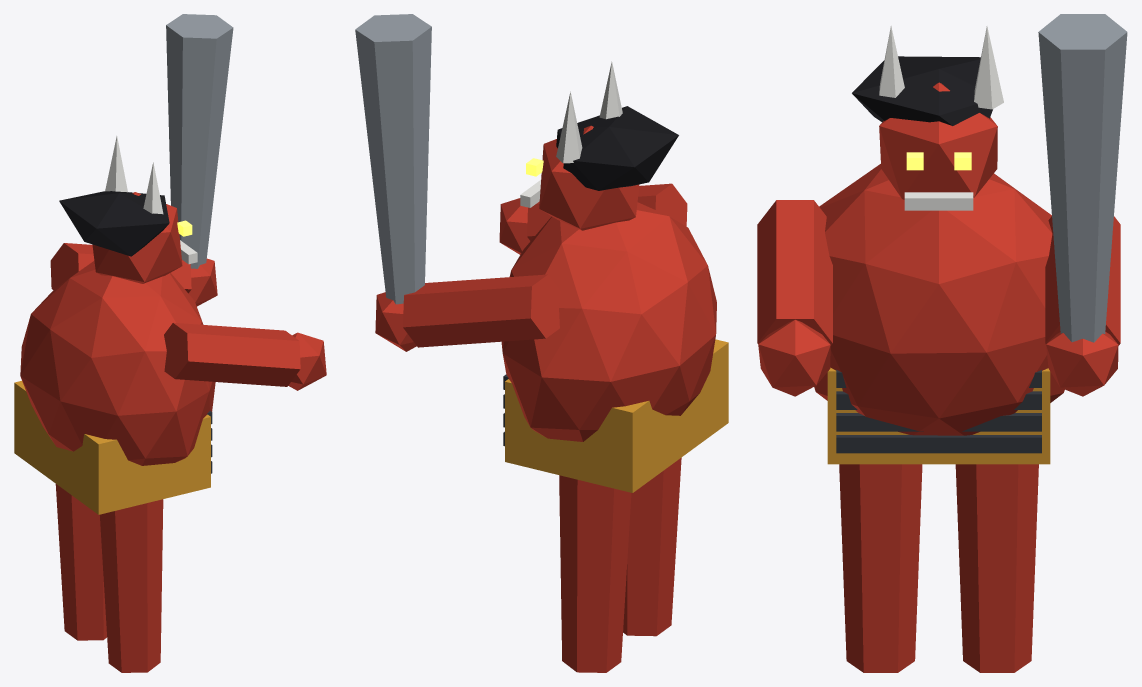
The model's file is oni.glb.
3 views of the same model, side by side, from view 1: azimuth 30°, elevation 25°; view 2: azimuth 150°, elevation 25°; view 3: azimuth 270°, elevation 25° (orthographic). The views are drawn at different scales.
Parts seen in each view (by area): view 1: Kropp, ArmV, BenH, ArmH, BenV; view 2: Kropp, ArmV, BenV, BenH, ArmH; view 3: Kropp, ArmV, BenH, BenV, ArmH.
Boxes of the visible parts, bbox=[...] form: Kropp: bbox=[14, 136, 215, 514]; ArmV: bbox=[50, 14, 233, 306]; BenH: bbox=[99, 499, 163, 672]; ArmH: bbox=[164, 322, 326, 390]; BenV: bbox=[55, 484, 106, 640]; Kropp: bbox=[501, 61, 728, 492]; ArmV: bbox=[355, 14, 560, 351]; BenV: bbox=[559, 475, 631, 672]; BenH: bbox=[623, 457, 681, 636]; ArmH: bbox=[499, 183, 687, 254]; Kropp: bbox=[814, 25, 1064, 464]; ArmV: bbox=[1038, 14, 1127, 396]; BenH: bbox=[839, 464, 922, 672]; BenV: bbox=[955, 464, 1038, 672]; ArmH: bbox=[757, 200, 832, 396].
Size of the model in its own units: 1.07 by 2.33 by 1.08.
